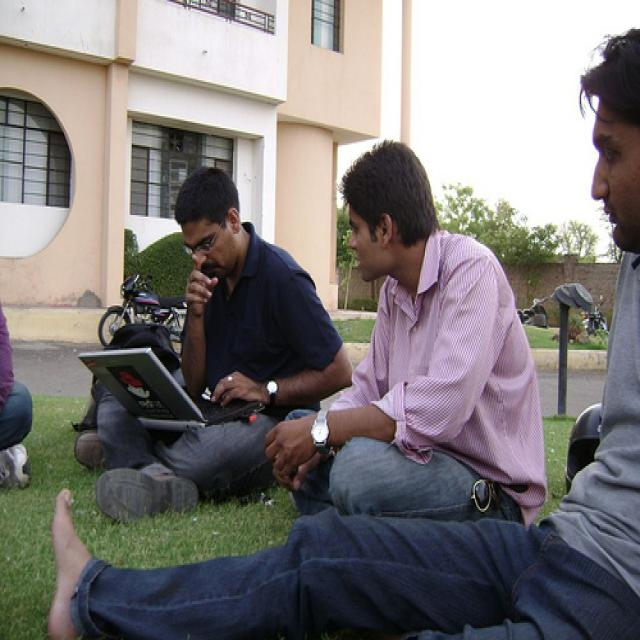motor: (97, 272, 190, 347), (581, 295, 608, 336), (517, 296, 548, 328)
